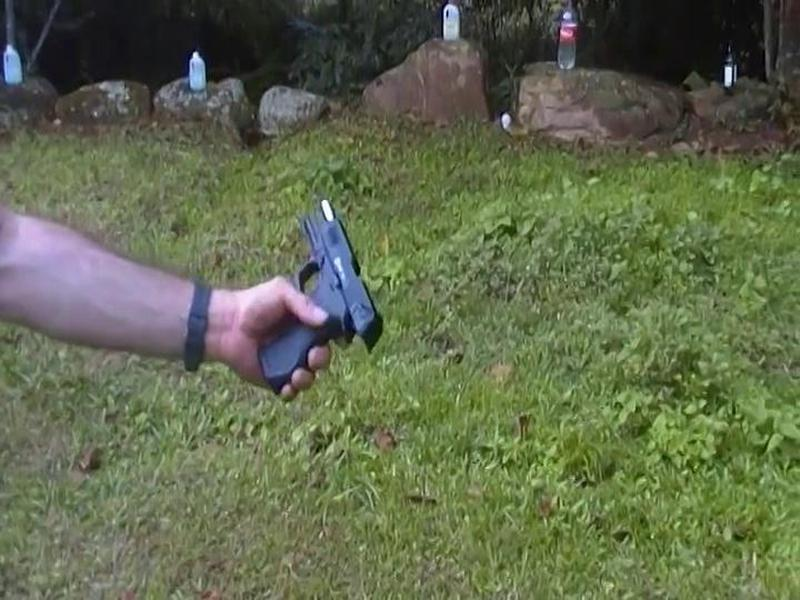Pistola: (248, 193, 387, 400)
